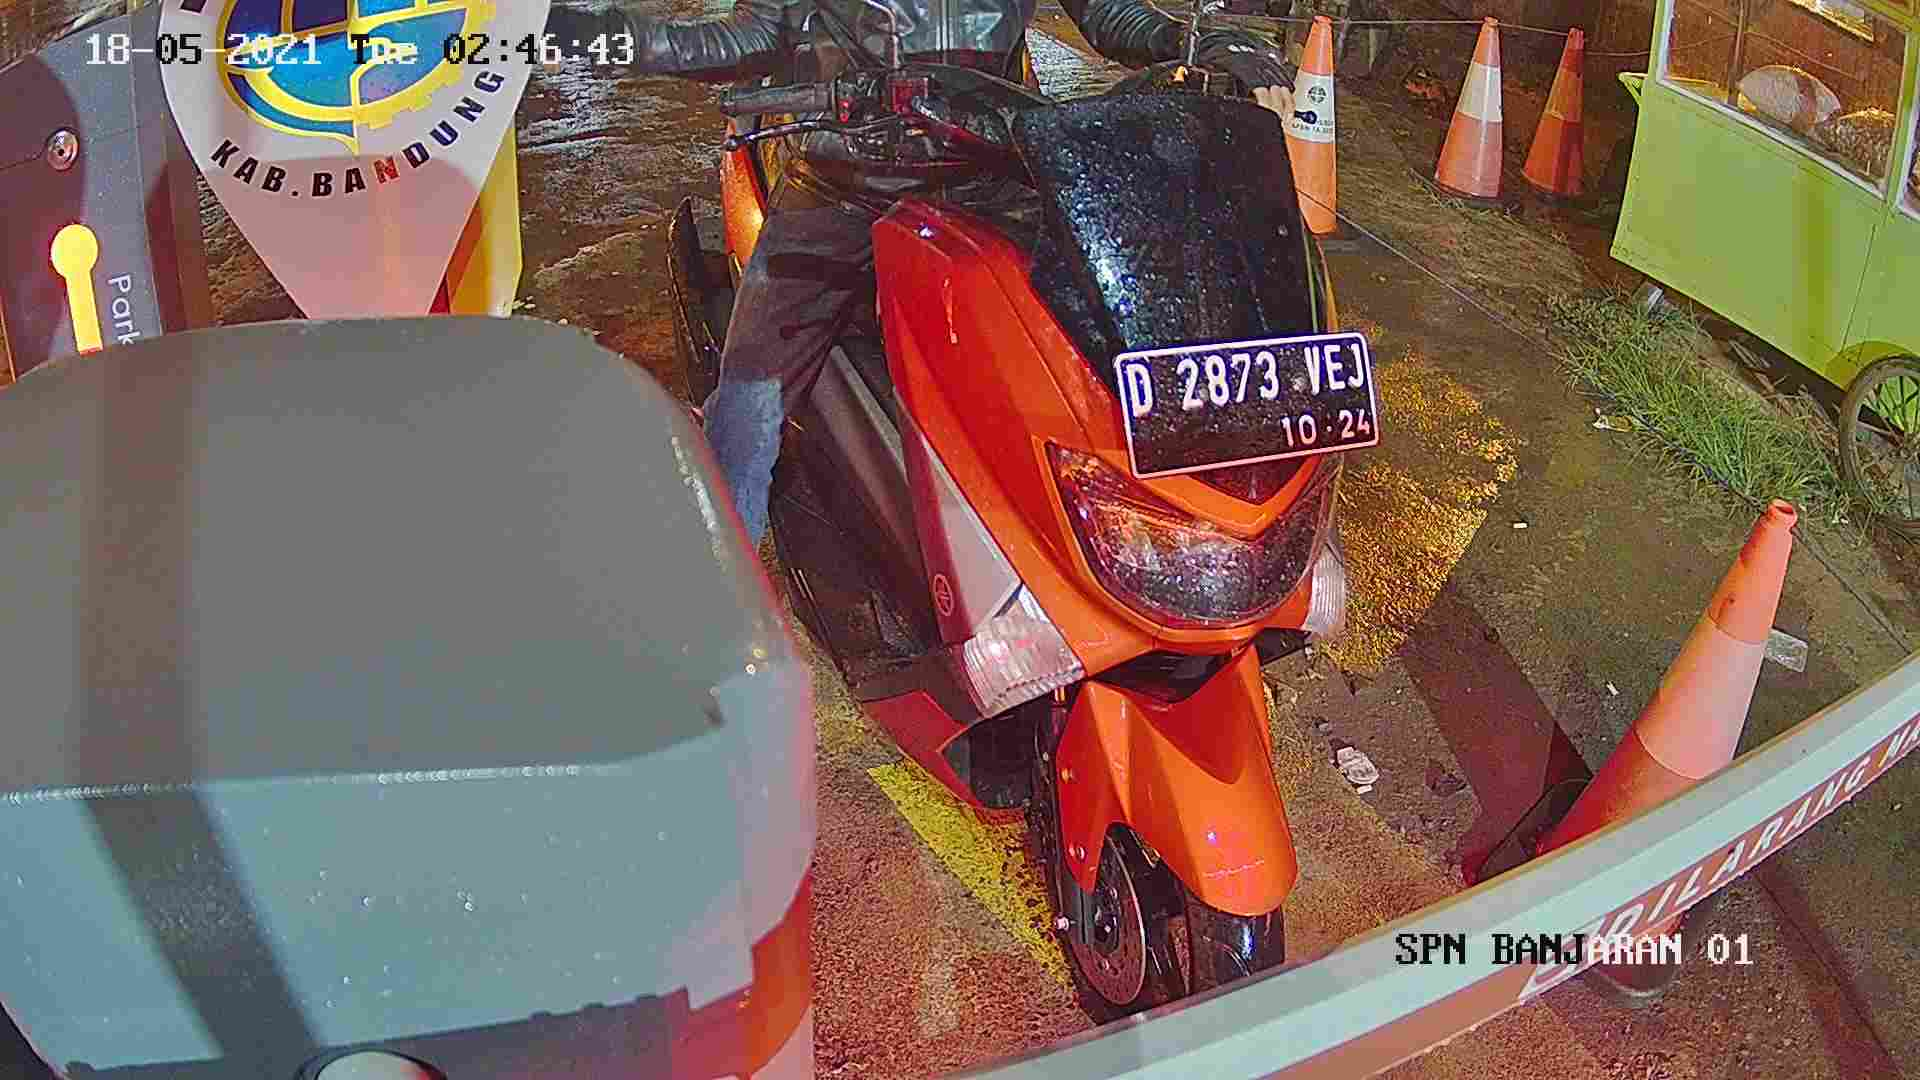motor: (684, 99, 1439, 988)
